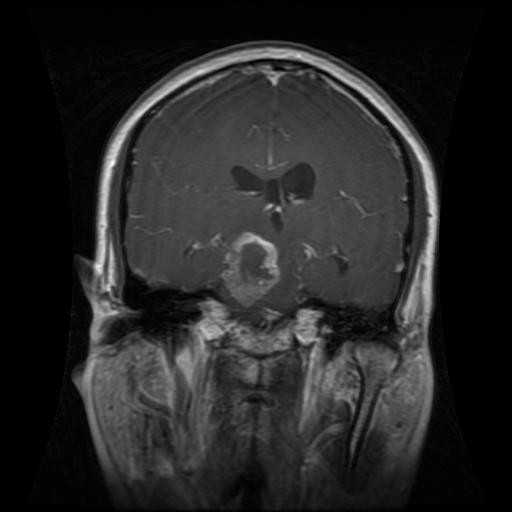Gliomia_tumour: (221, 230, 281, 308)
